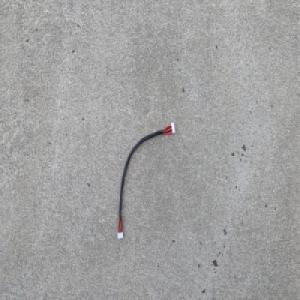Wire: (116, 120, 176, 241)
